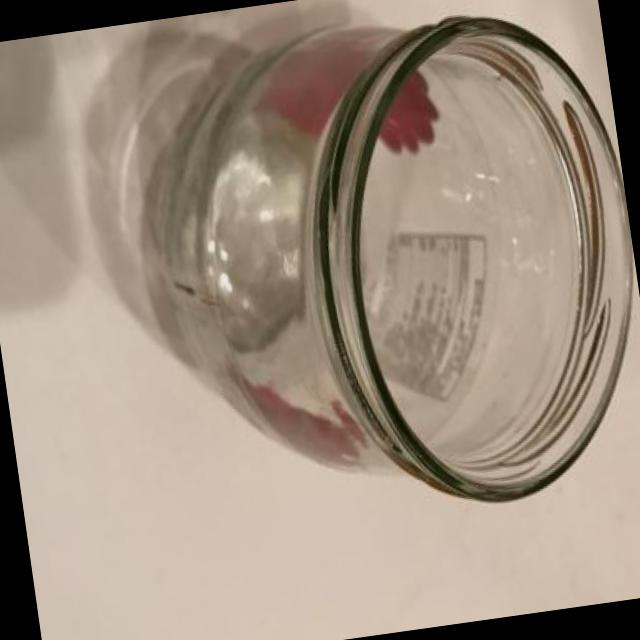chai_thuy_tinh: (144, 20, 633, 503)
